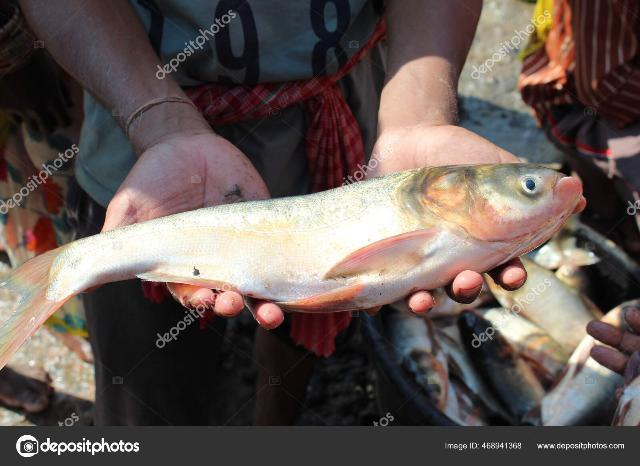Mulut: (547, 160, 599, 222)
Sirip Anal: (131, 255, 241, 311)
Sirip Dada: (323, 220, 439, 288)
Sirip Ekor: (1, 239, 70, 383)
Sirip Perut: (274, 275, 360, 379)
